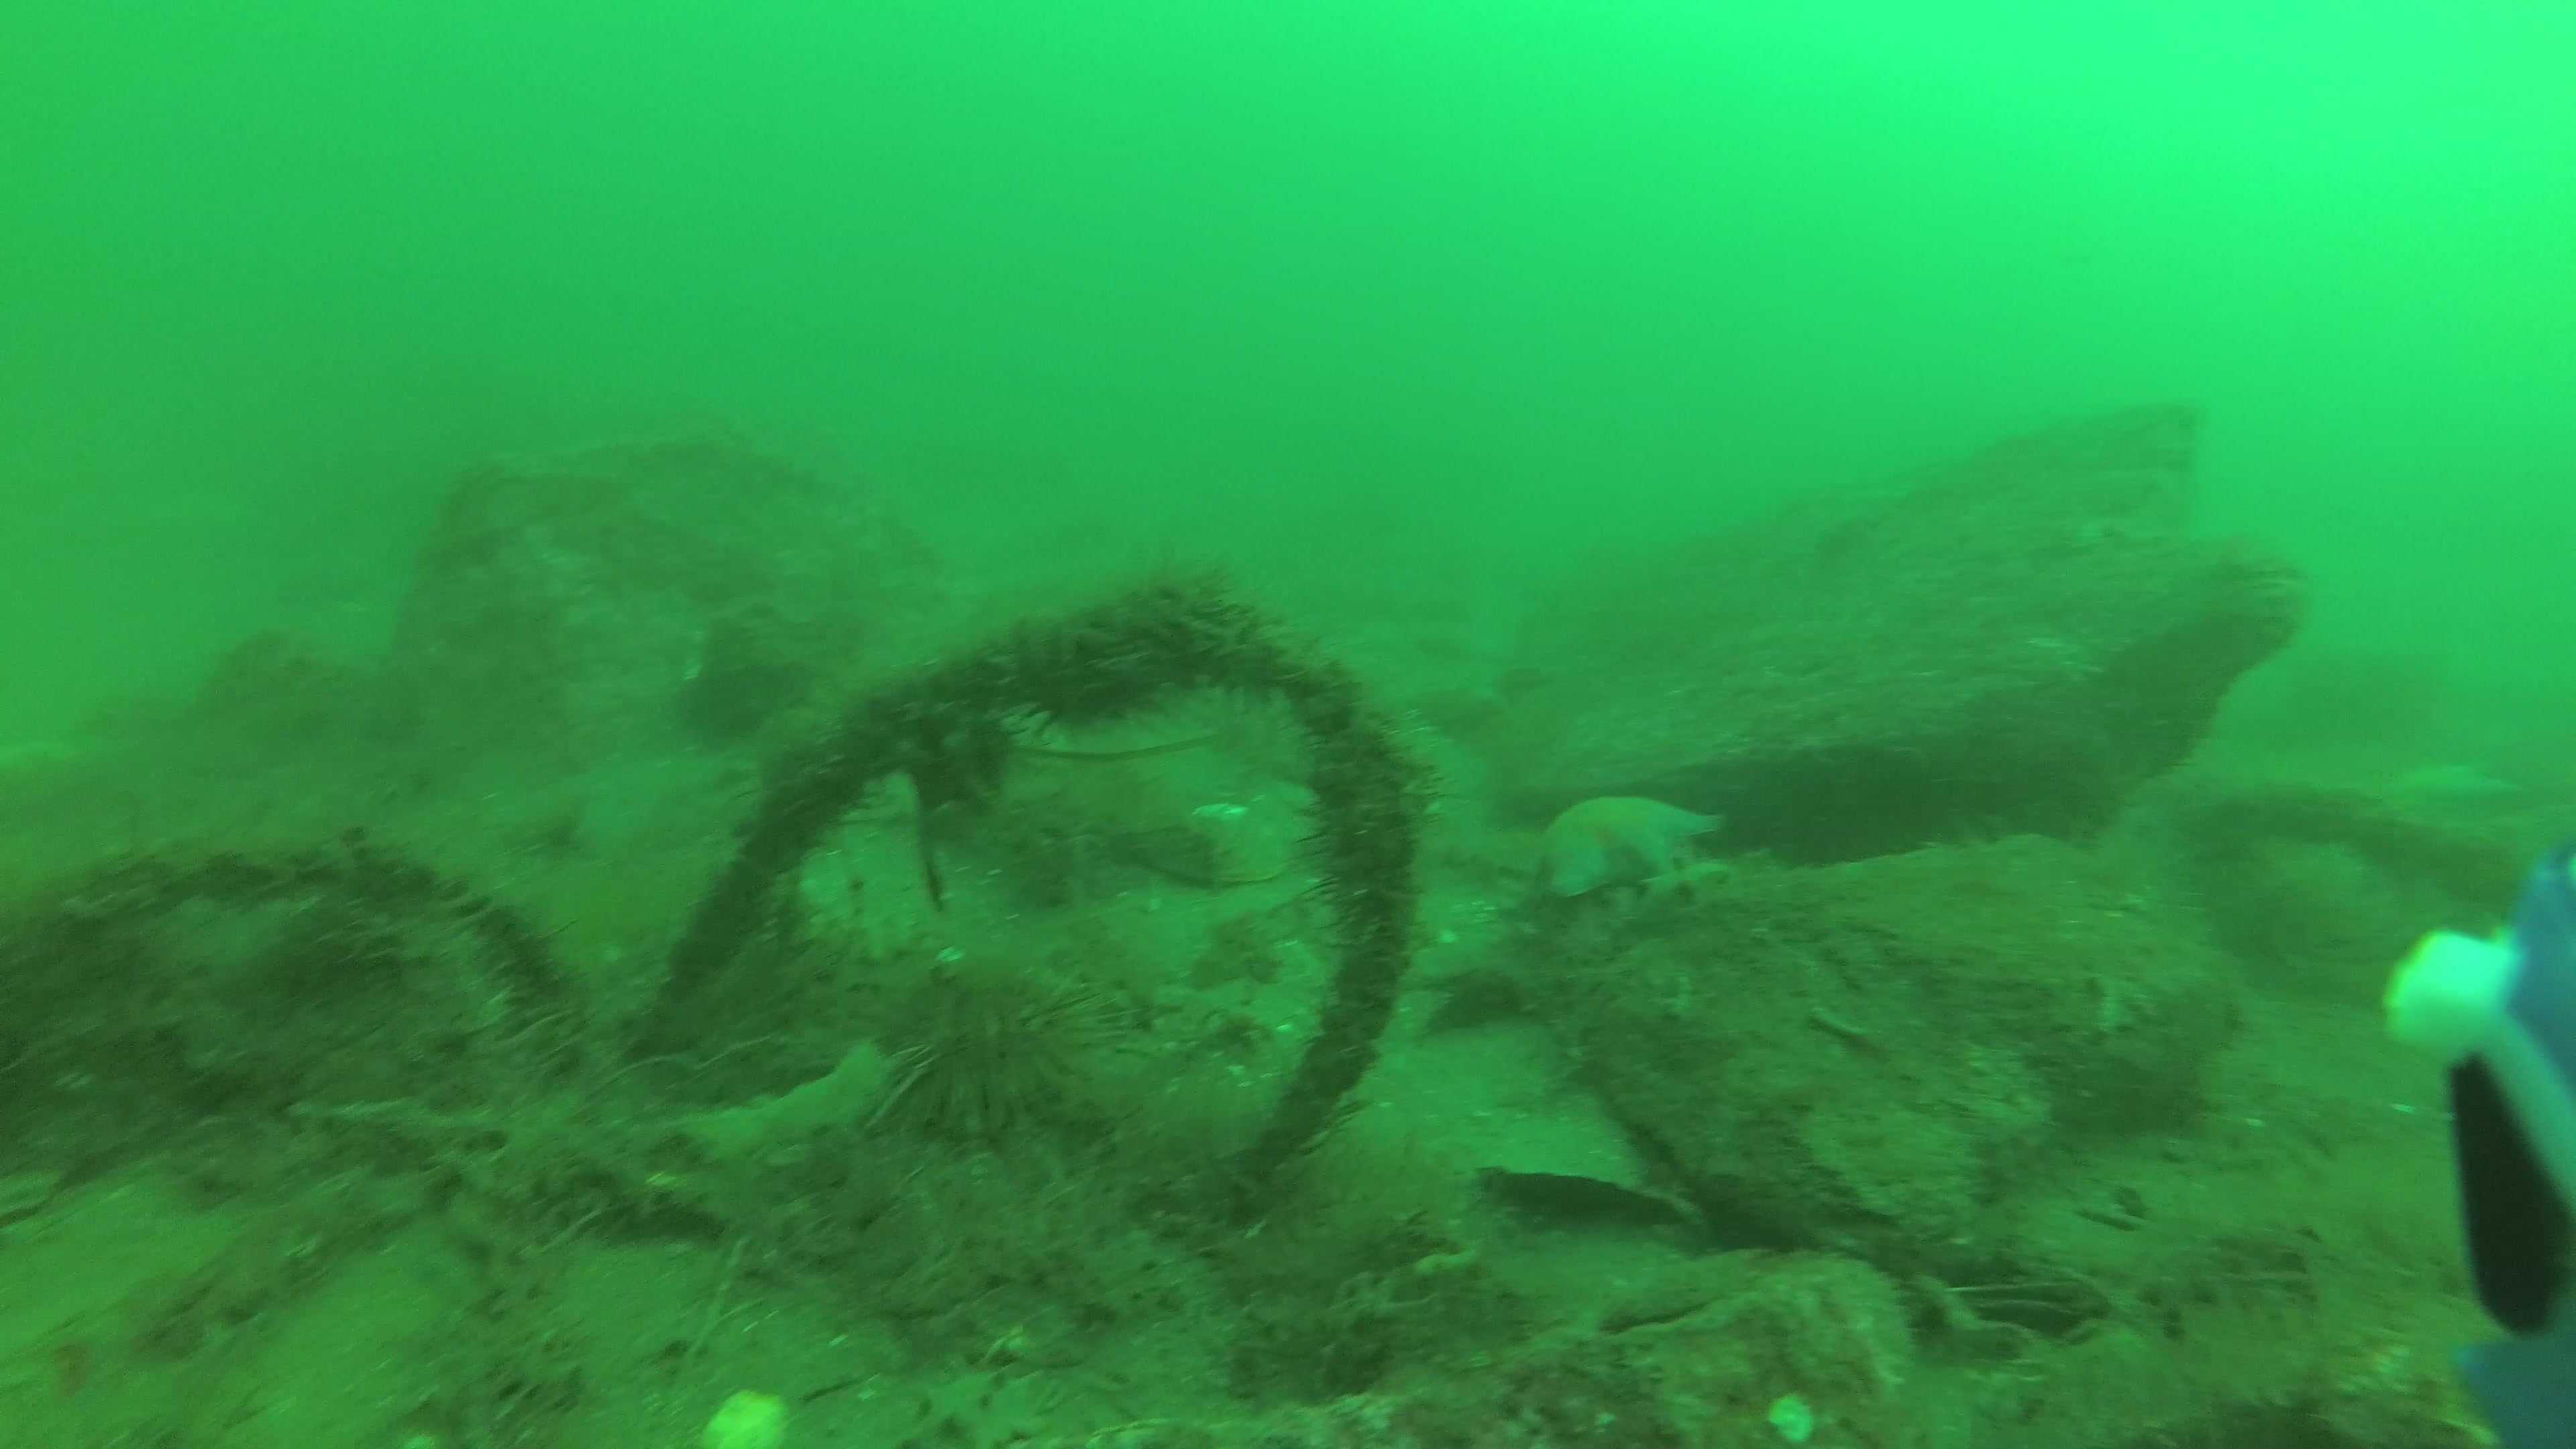starfish: (1530, 786, 1730, 906)
